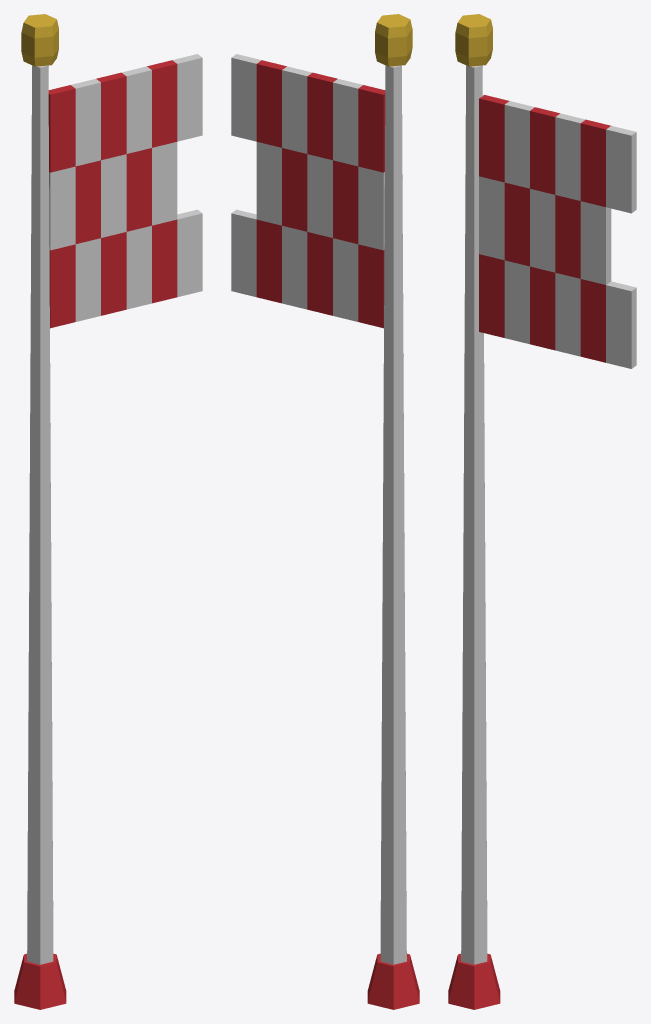
Rendered from flag.glb.
The picture shows the model from 3 angles, left to right: view 1: azimuth 30°, elevation 25°; view 2: azimuth 150°, elevation 25°; view 3: azimuth 330°, elevation 25°; orthographic projection.
Visible parts, largest first — view 1: funfair-flag; view 2: funfair-flag; view 3: funfair-flag.
Boxes of the visible parts, left/top/right/bottom form: funfair-flag: left=14, top=14, right=202, bottom=1009; funfair-flag: left=231, top=14, right=419, bottom=1009; funfair-flag: left=448, top=14, right=636, bottom=1009.
Bounding box in the file's own units: 0.25 × 1.25 × 0.0606.
